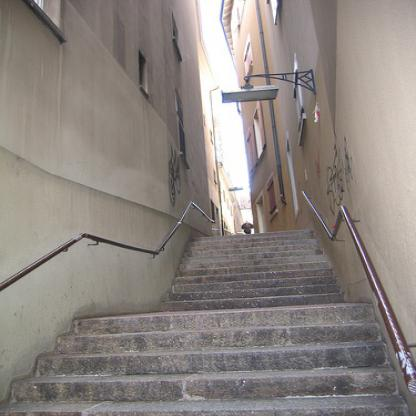stairs: (141, 306, 358, 416)
